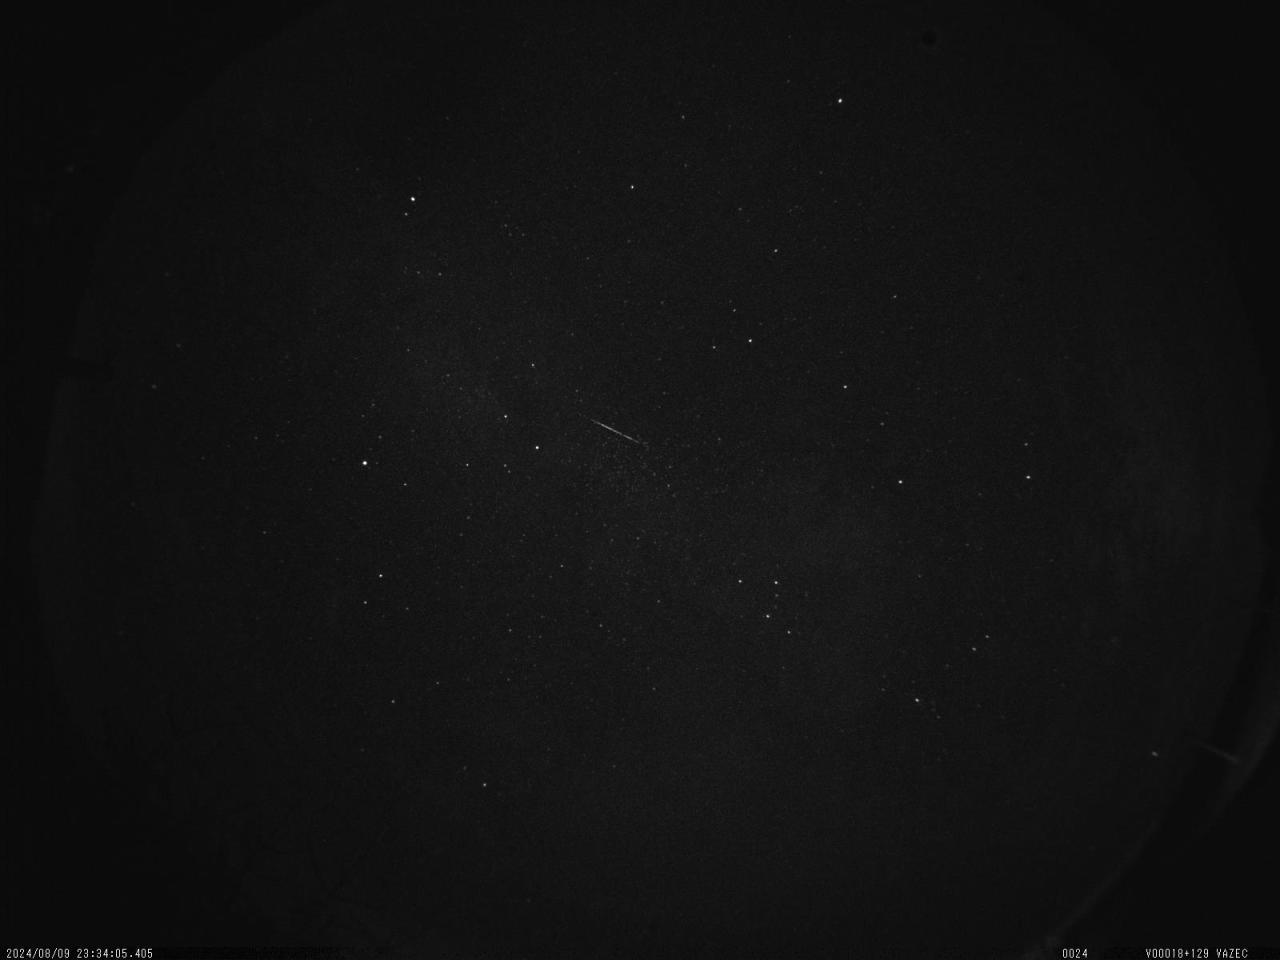Meteor: (586, 414, 645, 448)
